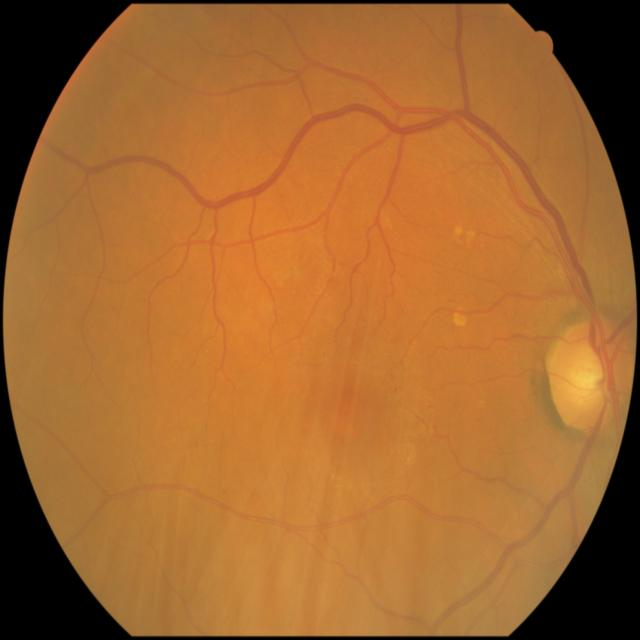OC: (573, 357, 604, 392)
OD: (546, 318, 634, 431)
